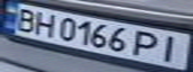0: (54, 15, 78, 43)
1: (72, 18, 93, 46)
6: (109, 25, 133, 54), (90, 21, 112, 50)
B: (9, 6, 42, 34)
H: (30, 9, 60, 38)
I: (154, 33, 190, 63)
P: (130, 28, 163, 58)
